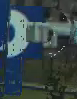Parking: (6, 3, 73, 94)
